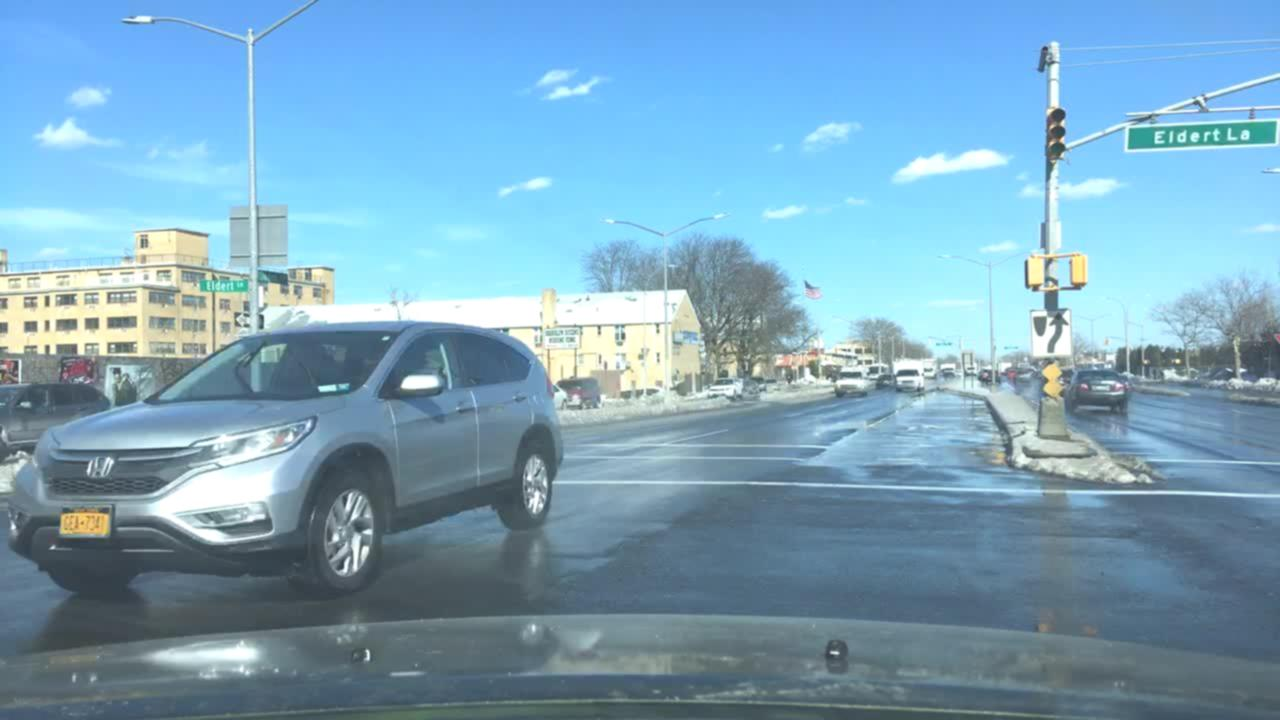Honda: (64, 447, 124, 488)
